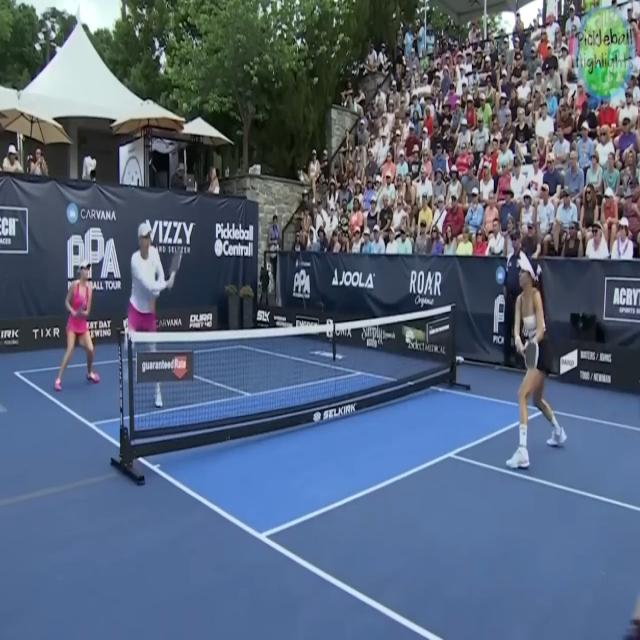Pickleball: (400, 319, 429, 343)
